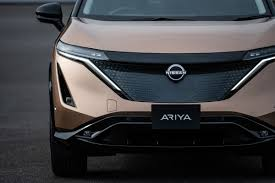Nissan: (48, 1, 273, 167)
